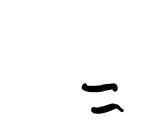eqv: (78, 78, 128, 117)
